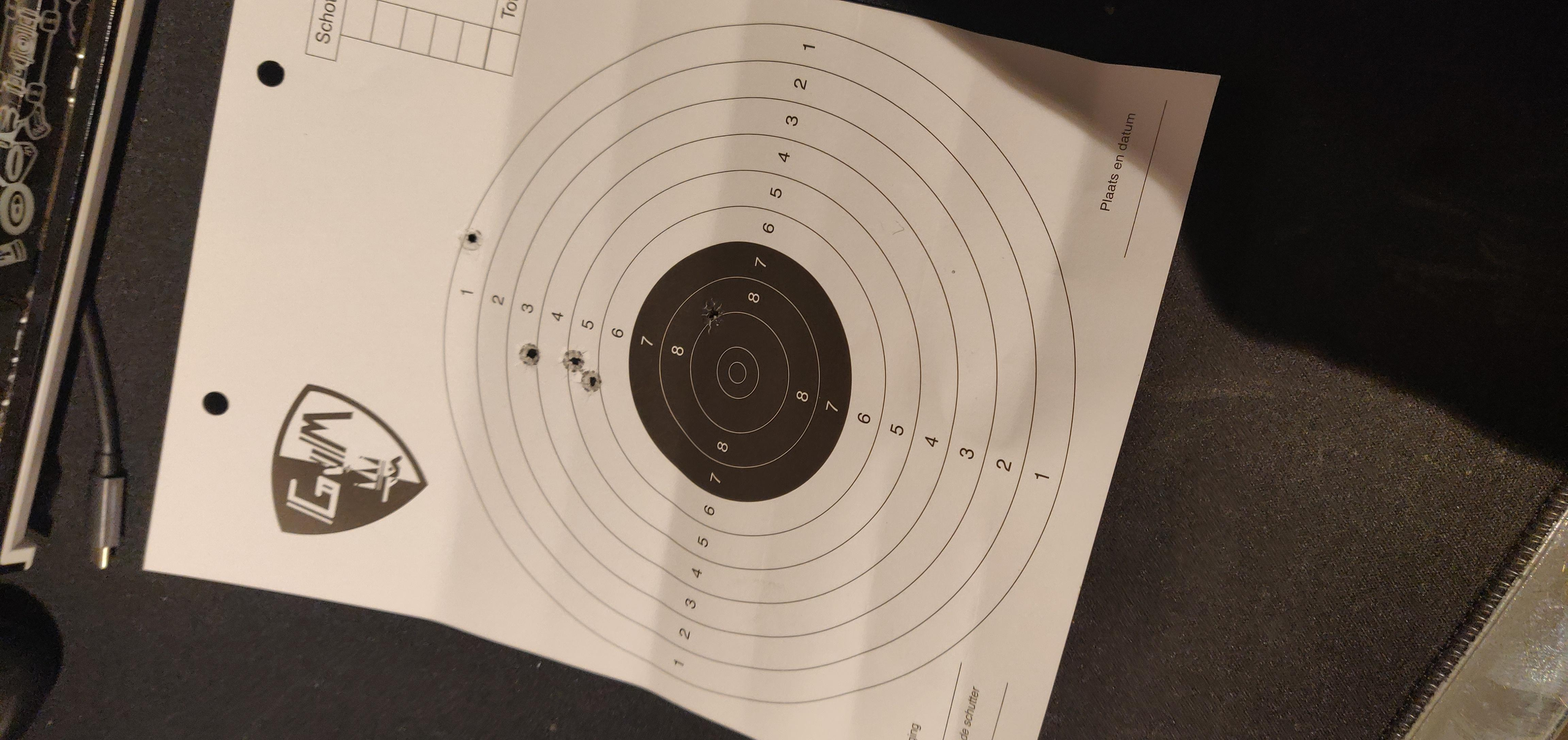hole: (842, 409, 868, 441), (1025, 370, 1052, 397), (980, 366, 1007, 391), (1084, 487, 1109, 513), (963, 345, 989, 370)
